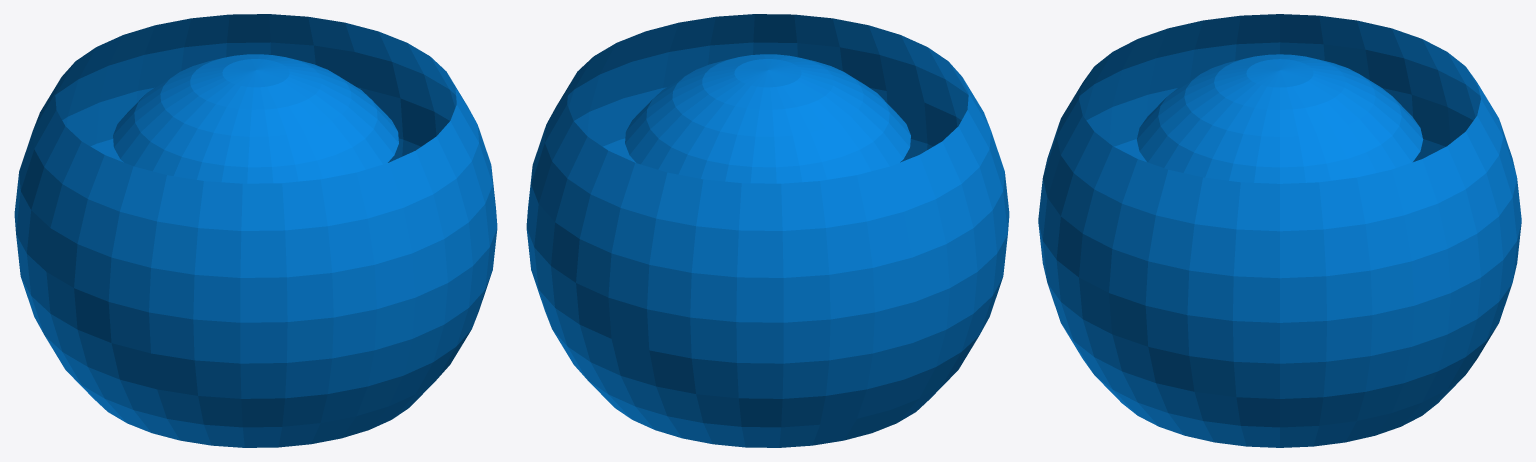
File: GoofySphere.gltf
3 renders of one model, left to right at view 1: azimuth 30°, elevation 25°; view 2: azimuth 150°, elevation 25°; view 3: azimuth 270°, elevation 25°, orthographic.
Visible parts, largest first — view 1: Sphere; view 2: Sphere; view 3: Sphere.
Part boxes in pixels (bbox=[...]): Sphere: bbox=[14, 14, 497, 447]; Sphere: bbox=[526, 14, 1009, 447]; Sphere: bbox=[1038, 14, 1521, 447].
Bounding box in the file's own units: 2.81 × 2 × 2.81.
